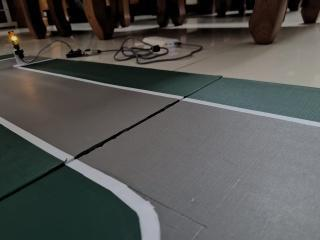yellow: (5, 26, 28, 51)
